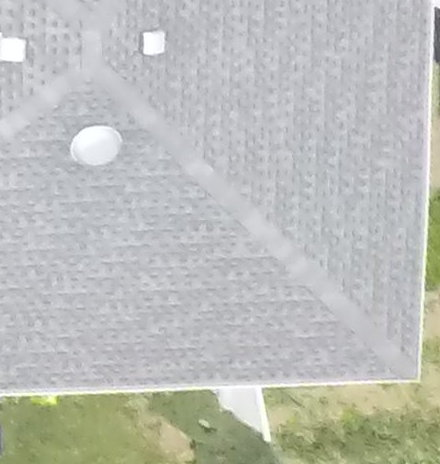gutter: (1, 373, 425, 402), (412, 1, 440, 383)
